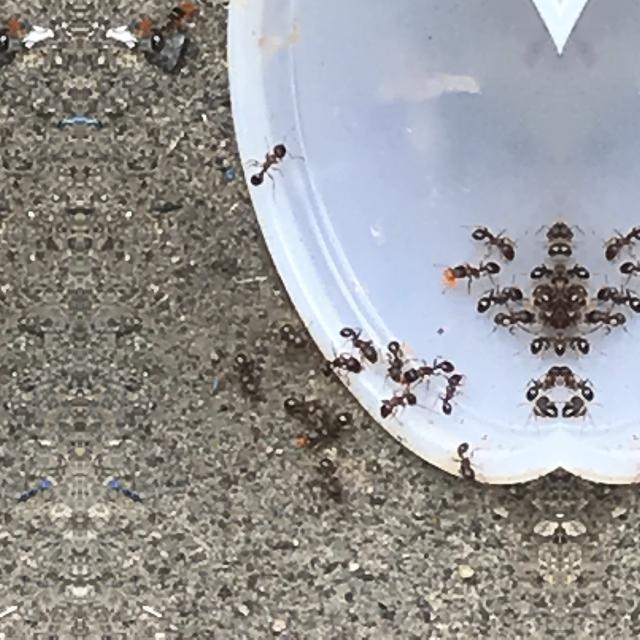Tetramorium: (242, 134, 296, 194), (144, 0, 186, 70), (466, 212, 524, 262), (232, 348, 274, 417), (596, 212, 640, 262), (314, 451, 351, 509), (304, 406, 356, 444), (485, 296, 535, 332), (585, 296, 635, 332), (406, 346, 454, 382), (474, 272, 526, 304), (374, 384, 420, 420), (456, 430, 484, 488), (338, 322, 380, 360), (288, 385, 334, 419), (448, 256, 500, 286), (592, 272, 640, 304), (438, 376, 476, 414), (525, 360, 559, 400), (561, 360, 595, 400), (323, 351, 367, 379), (273, 318, 307, 352), (384, 341, 408, 384), (0, 0, 14, 70), (534, 329, 560, 357), (560, 329, 586, 357), (620, 256, 640, 284)
